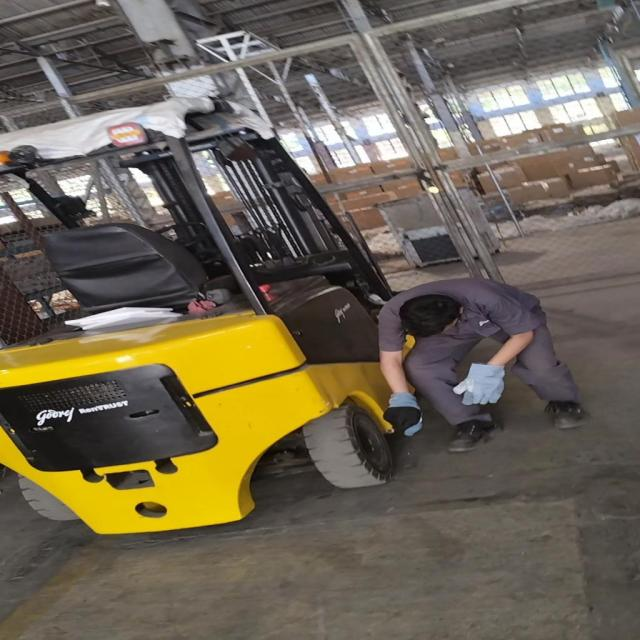Gloves-Detection: (454, 362, 512, 418), (381, 392, 418, 442)
